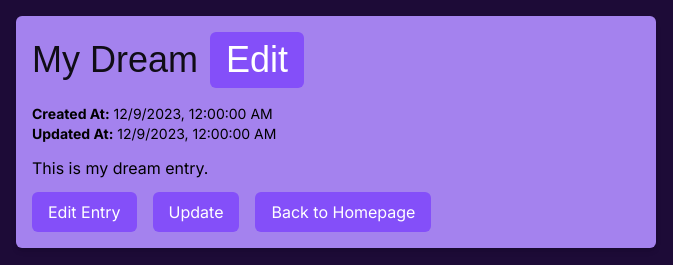
UpdateDream component › allows editing the dream title
Click the button "Edit".
click(257, 60)  # box top-left (210, 32), bottom-right (304, 88)
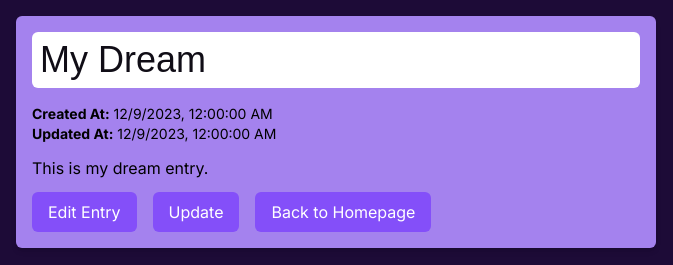
Expected: the field named "Title" is shown, top-left (32, 32), bottom-right (640, 88)
